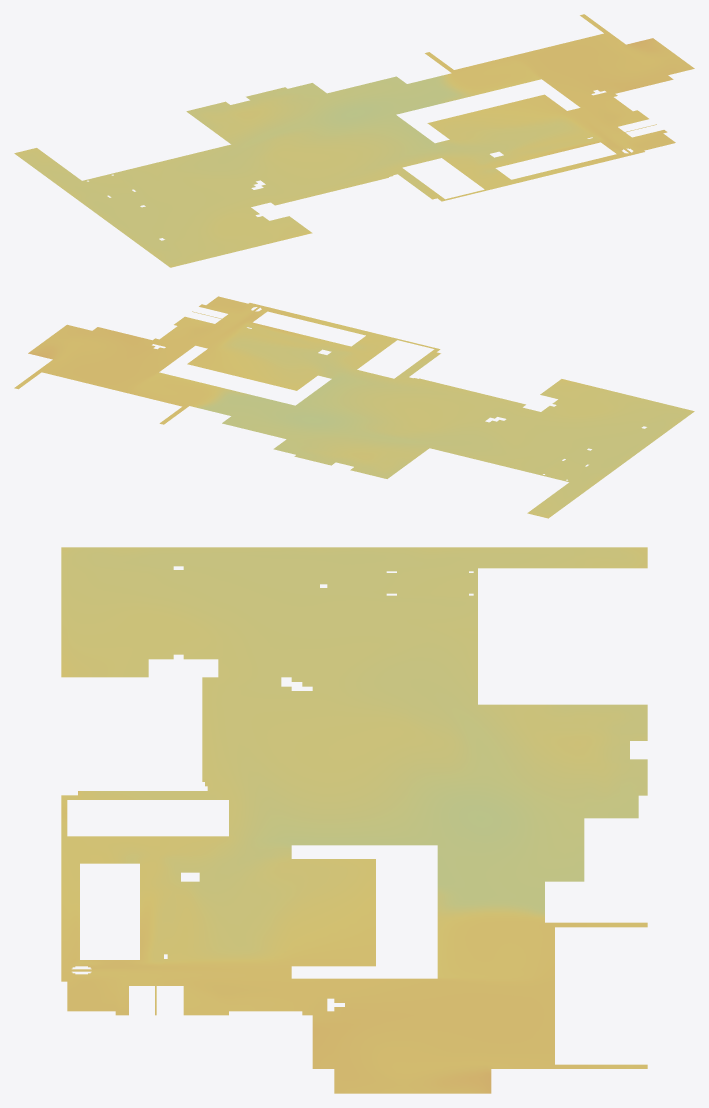
File: A_temperature_z0.3.glb
3 views of the same model, one above another, from view 1: azimuth 30°, elevation 25°; view 2: azimuth 150°, elevation 25°; view 3: azimuth 270°, elevation 25° (orthographic). The views are drawn at different scales.
Size of the model in its own units: 7.18 by 0 by 3.26.
